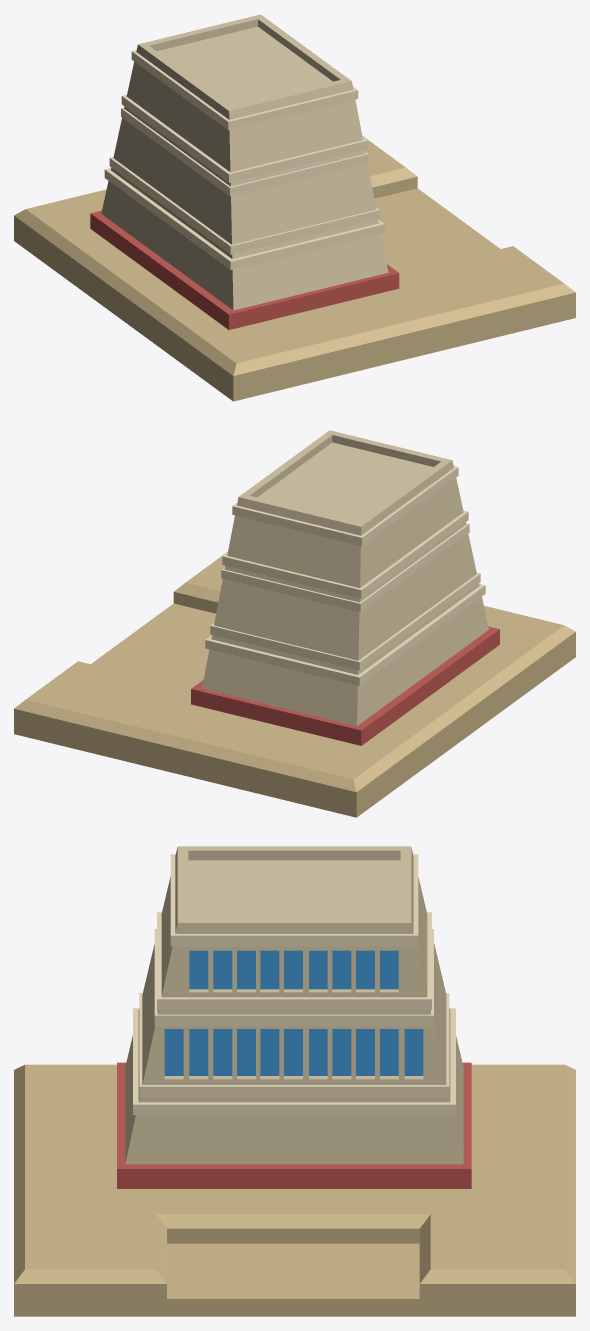
File: Altar_Tlaloc.fbx
3 views of the same model, one above another, from view 1: azimuth 30°, elevation 25°; view 2: azimuth 150°, elevation 25°; view 3: azimuth 270°, elevation 25° (orthographic). The views are drawn at different scales.
Visible parts, largest first — view 1: Altar_Tlaloc; view 2: Altar_Tlaloc; view 3: Altar_Tlaloc.
Part boxes in pixels (box(x1,y1,x2,y2)): Altar_Tlaloc: box(14, 14, 575, 401); Altar_Tlaloc: box(14, 430, 575, 817); Altar_Tlaloc: box(14, 846, 575, 1316).
Bounding box in the file's own units: 293 × 187 × 325.
